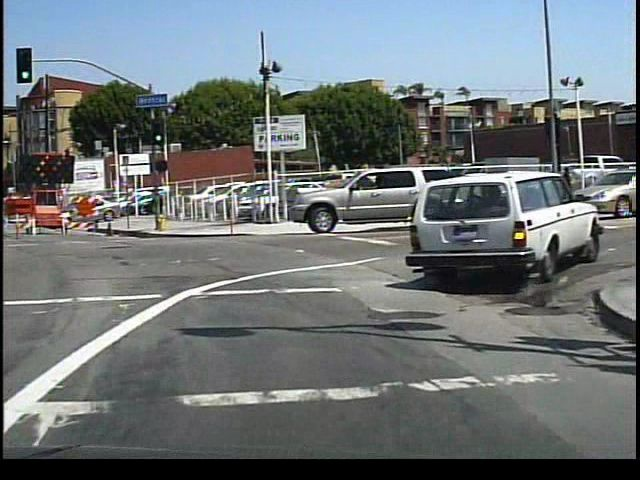person: (558, 161, 577, 204)
